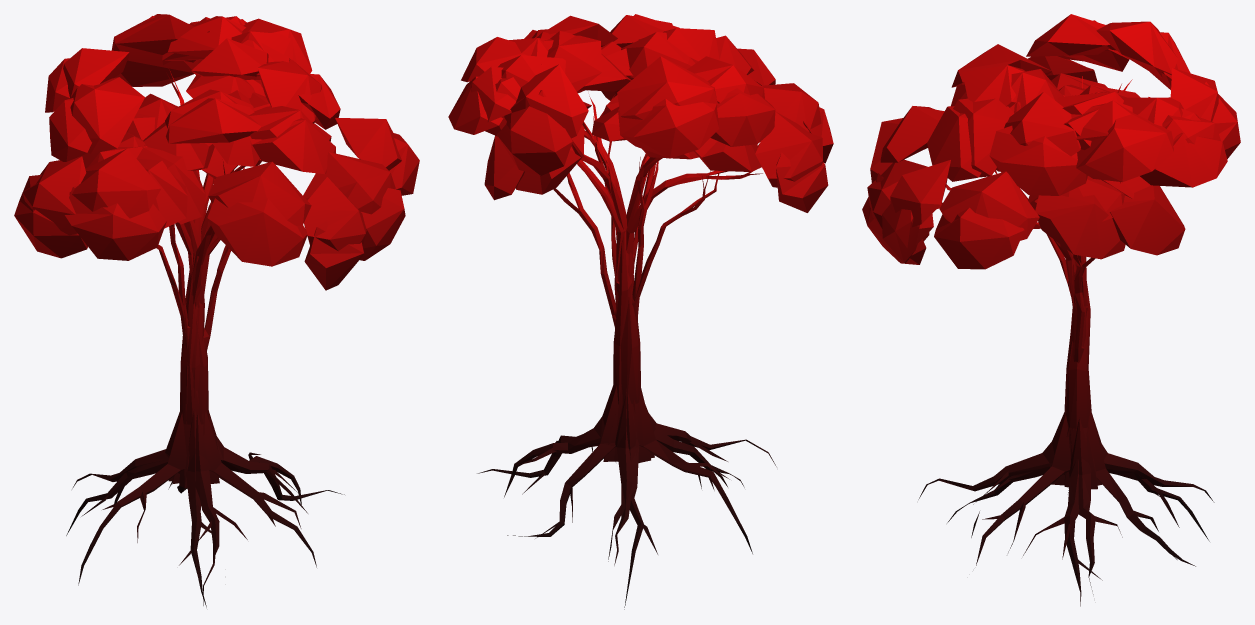
File: TreeMahogany01.fbx
3 views of the same model, side by side, from view 1: azimuth 30°, elevation 25°; view 2: azimuth 150°, elevation 25°; view 3: azimuth 270°, elevation 25° (orthographic).
Visible parts, largest first — view 1: TreeMahogany01_LOD0; view 2: TreeMahogany01_LOD0; view 3: TreeMahogany01_LOD0.
Boxes of the visible parts, left/top/right/bottom form: TreeMahogany01_LOD0: left=14, top=14, right=419, bottom=607; TreeMahogany01_LOD0: left=448, top=14, right=833, bottom=609; TreeMahogany01_LOD0: left=862, top=14, right=1240, bottom=606.
Size of what is drawn, in the model's own units: 926 by 1303 by 861.
